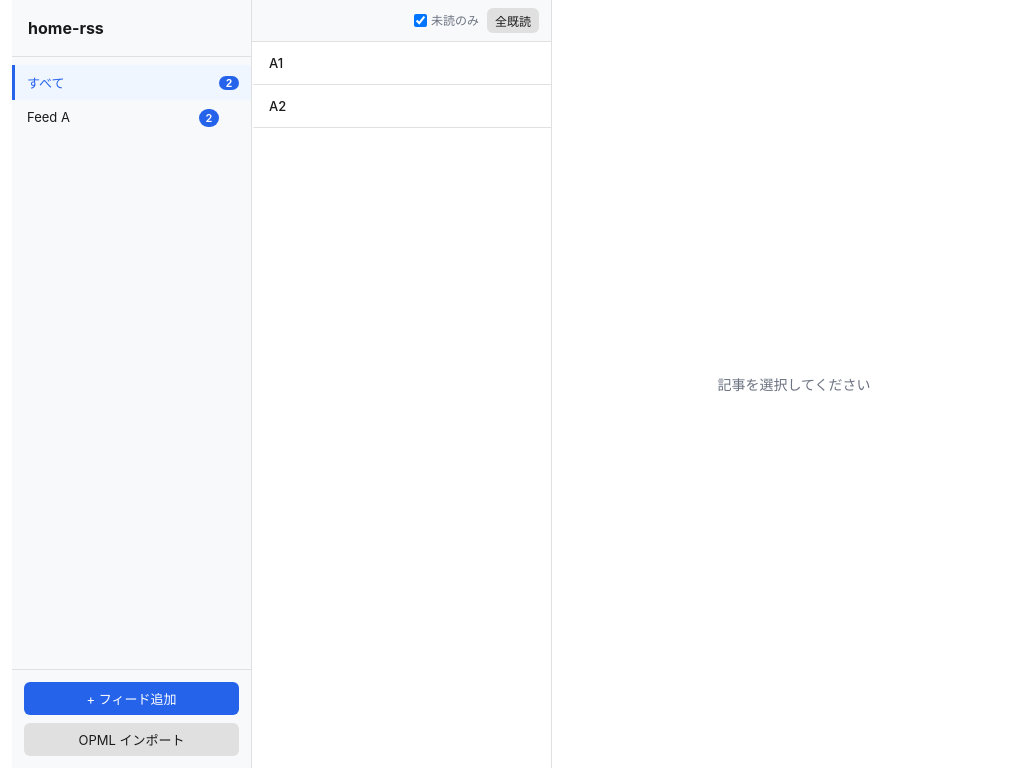
App › the unread-only filter › lists read articles too when turned off, and closes the open article
Step 1. Click the text "A1" → [276, 63], box top-left (269, 55), bottom-right (283, 71)
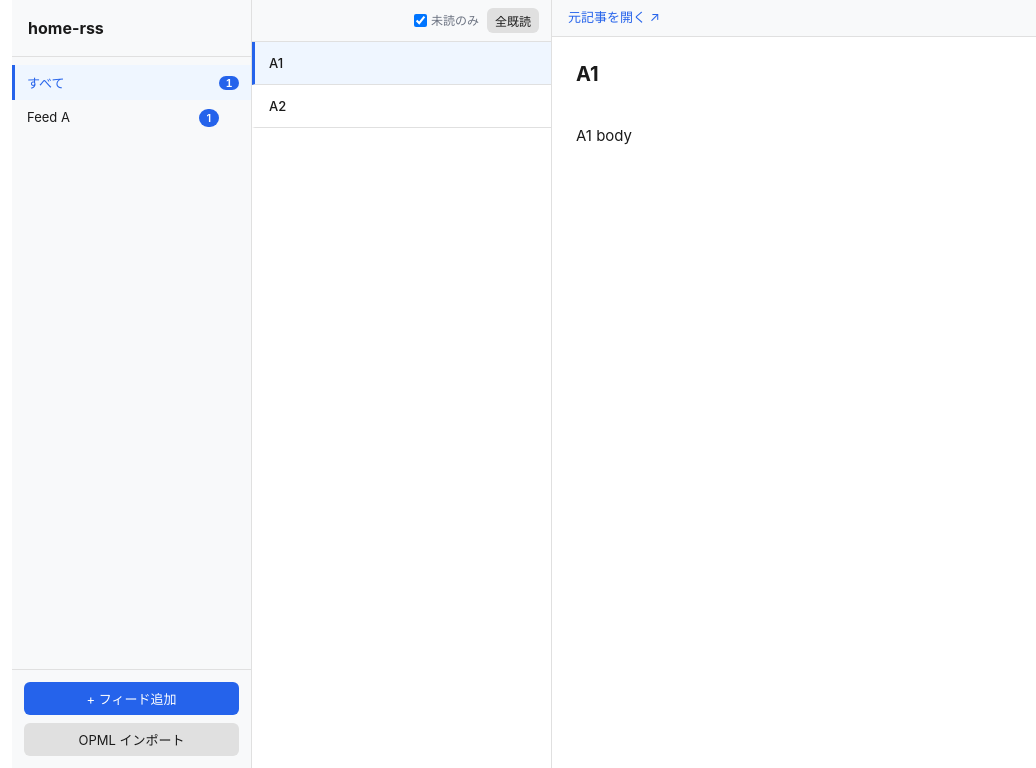
Step 2. Click the checkbox labelled "未読のみ" → [420, 20], box top-left (414, 14), bottom-right (427, 27)
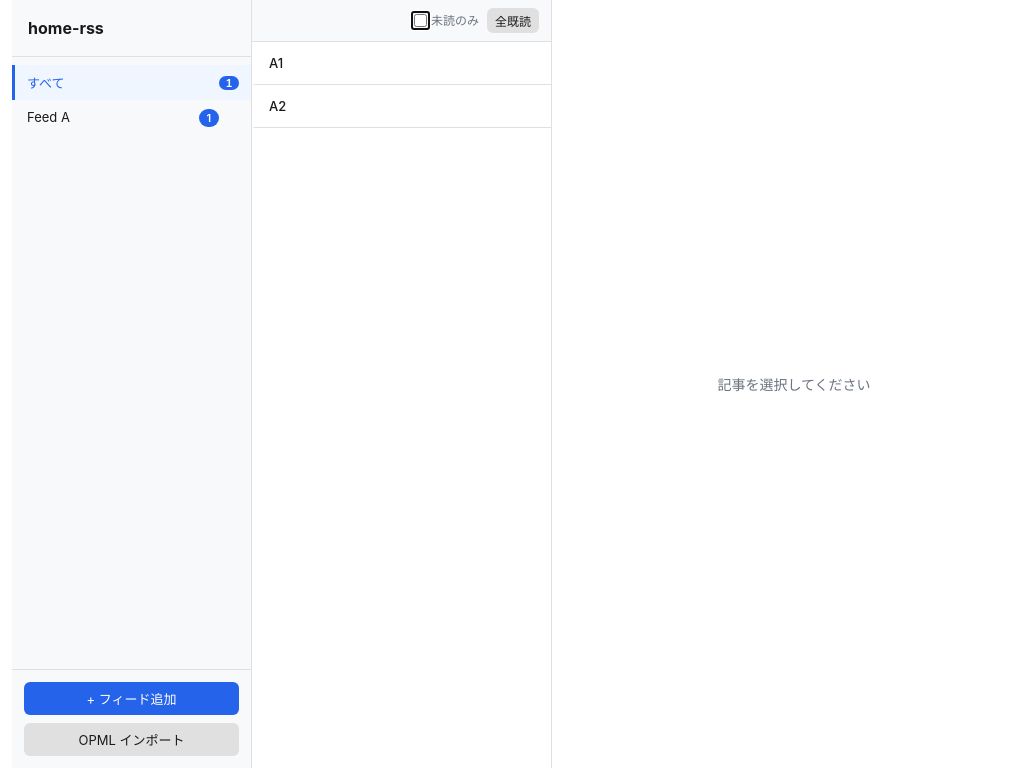
Now the checkbox labelled "未読のみ" is not checked, box top-left (414, 14), bottom-right (427, 27)
Now the heading with class "detail-title" is gone
Note: With the filter off, reading an article keeps it in the list.
Step 3. Click the text "A2" → [278, 106], box top-left (269, 98), bottom-right (286, 114)
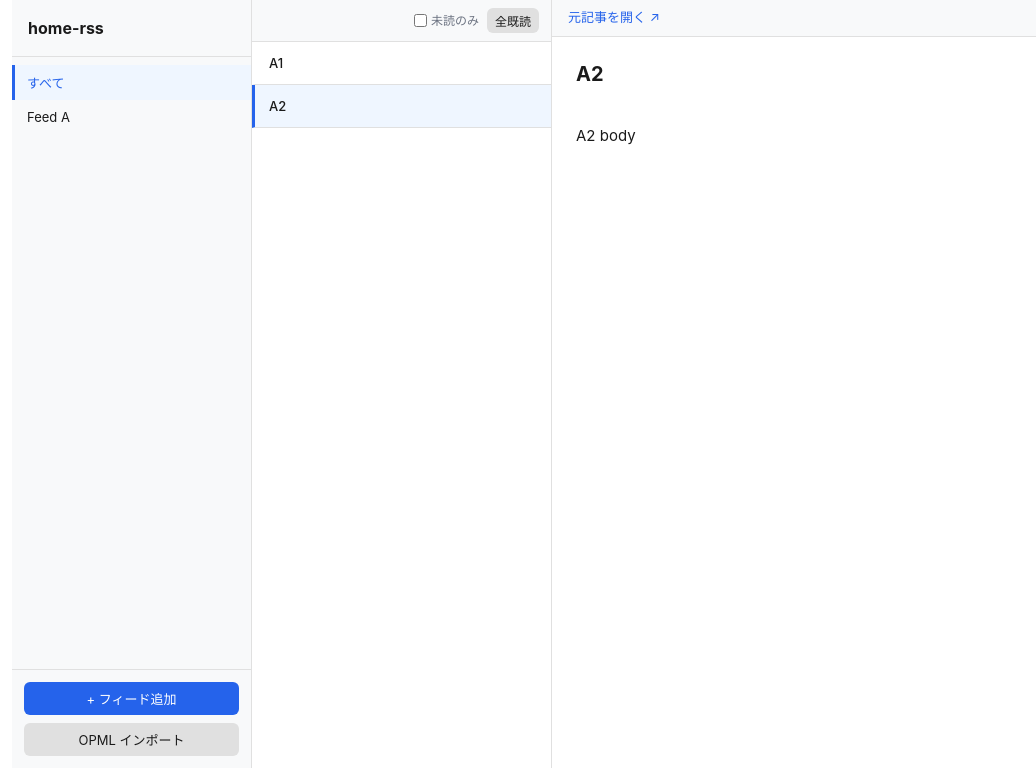
Step 4. Click the checkbox labelled "未読のみ" → [420, 20], box top-left (414, 14), bottom-right (427, 27)
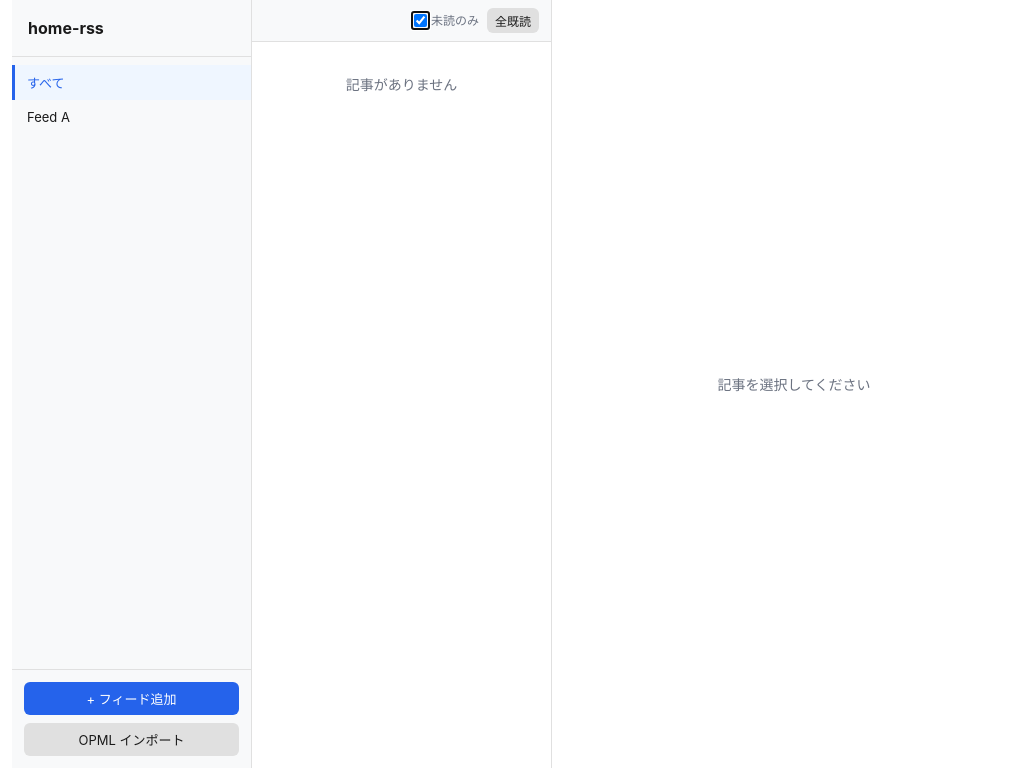
Now the text "記事がありません" is shown, box top-left (346, 76), bottom-right (457, 93)
